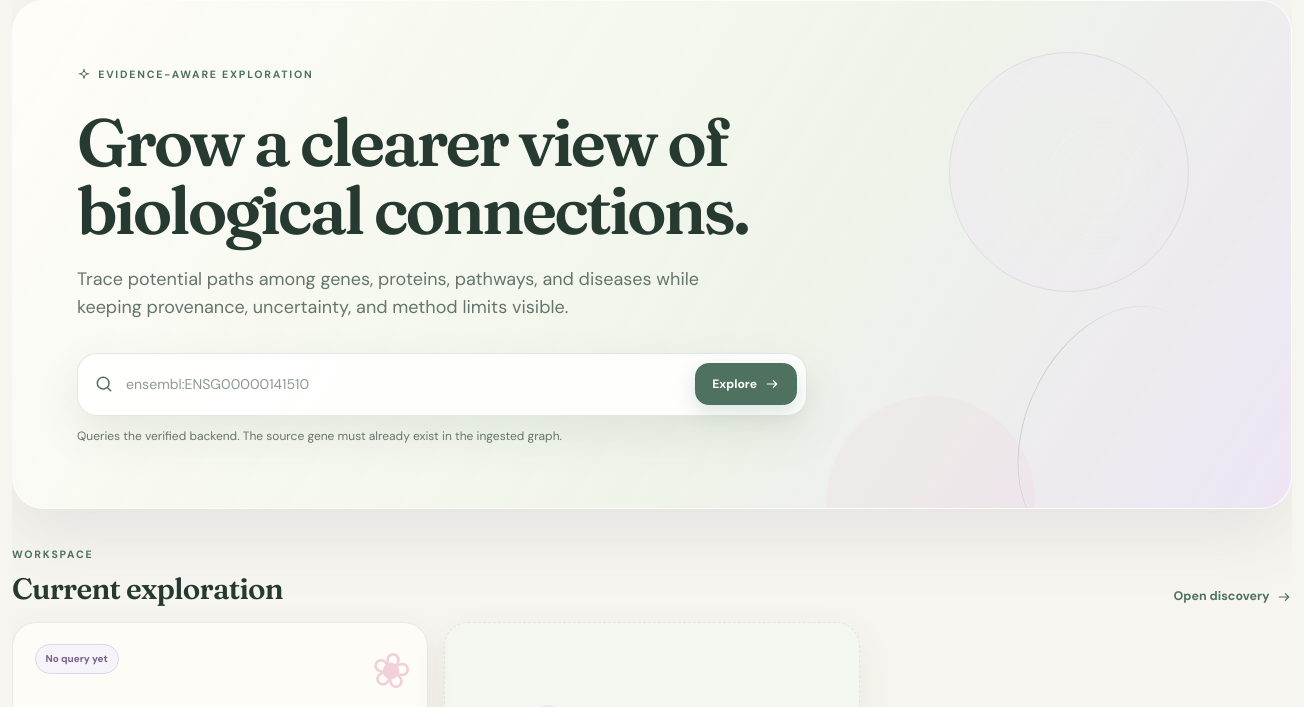
Test: HomeDashboard discovery search › rejects unsupported identifiers before making a request
Step 1. Type "TP53" into the search field named "canonical Ensembl gene identifier" → (405, 384), box [126,363,683,406]
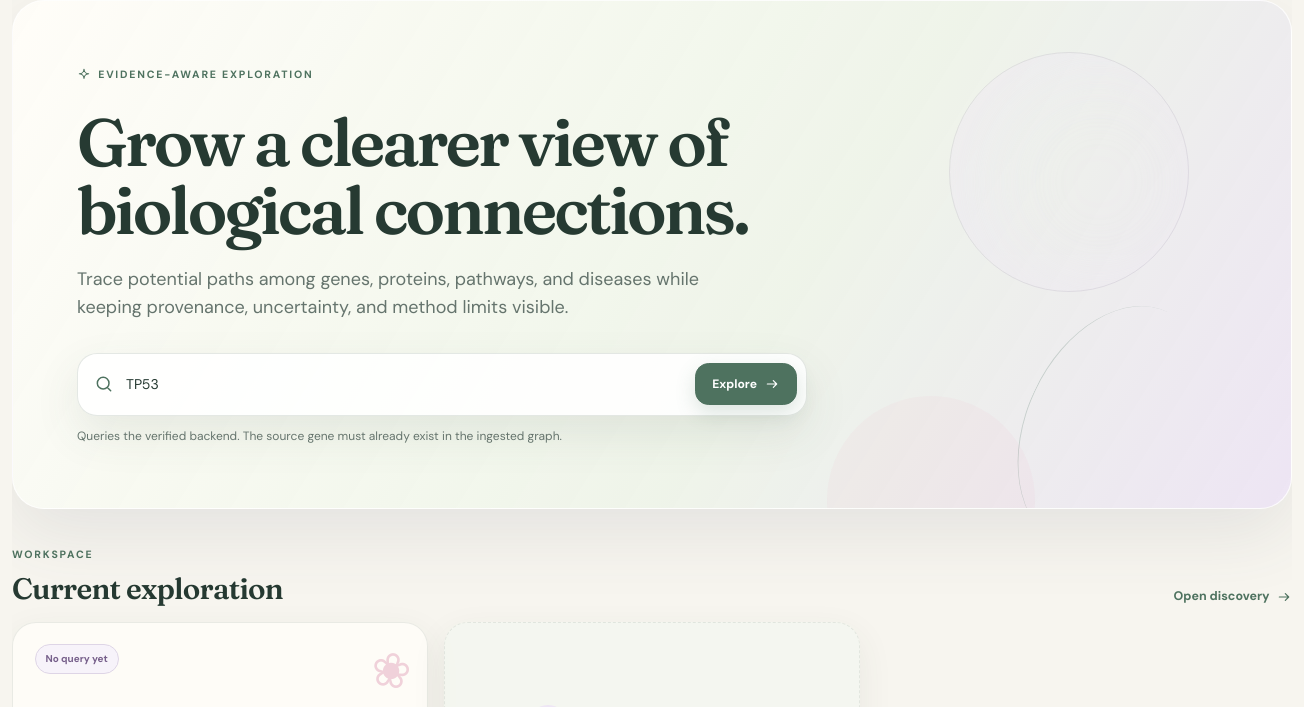
Step 2. Submit the form, box [77,353,807,416]
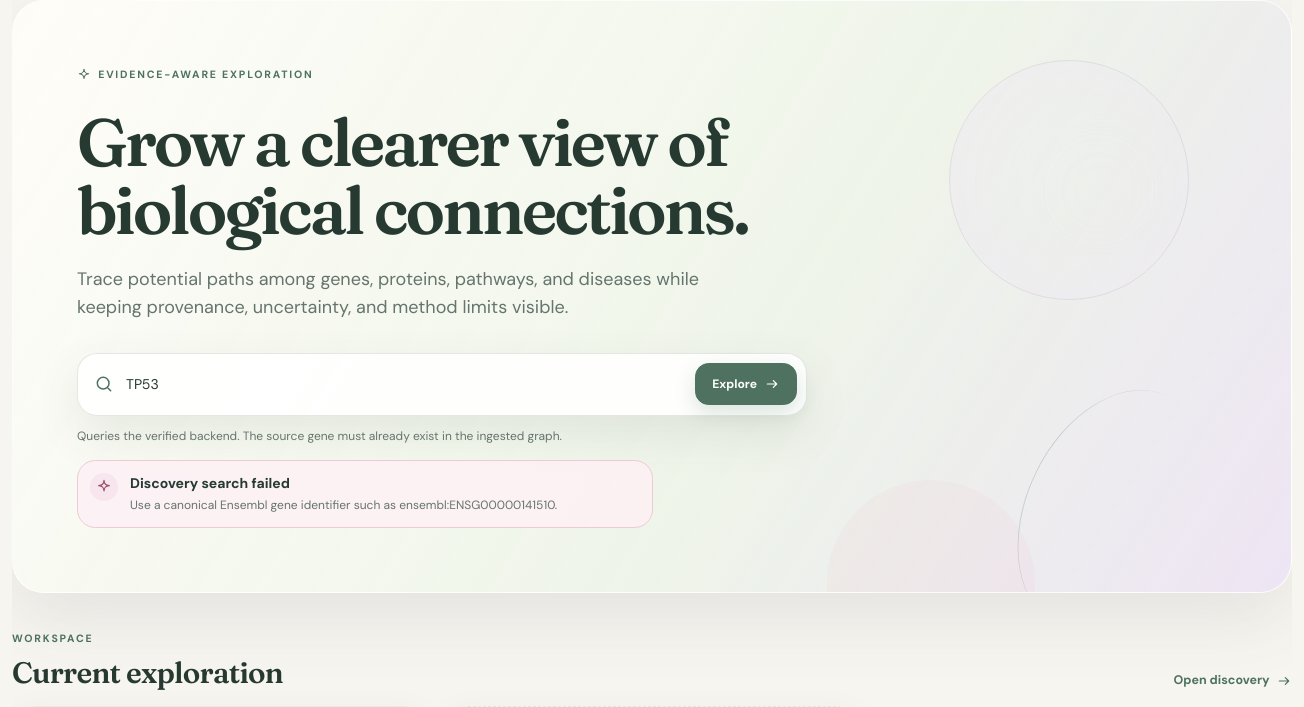
Now the text "Use a canonical Ensembl gene identifier" is shown, box [130,497,557,513]
